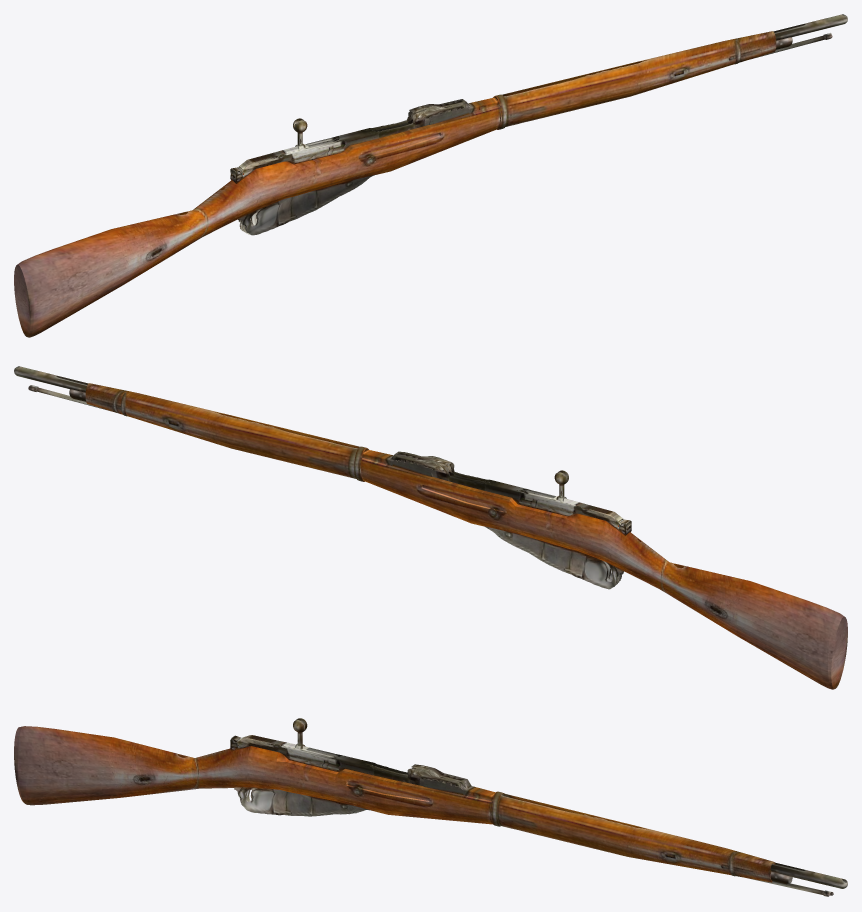
Rendered from mosin.obj.
3 views of the same model, one above another, from view 1: azimuth 30°, elevation 25°; view 2: azimuth 150°, elevation 25°; view 3: azimuth 330°, elevation 25° (orthographic).
Visible parts, largest first — view 1: 円柱, 円, 円柱.003; view 2: 円柱, 円, 円柱.003; view 3: 円柱, 円, 円柱.003, 円.002_円.003.
Part boxes in pixels (<box>): 円柱: <box>14,31,776,337</box>; 円: <box>230,99,471,235</box>; 円柱.003: <box>773,14,847,40</box>; 円柱: <box>85,383,847,689</box>; 円: <box>390,451,631,589</box>; 円柱.003: <box>14,366,88,392</box>; 円柱: <box>14,726,775,882</box>; 円: <box>230,735,471,816</box>; 円柱.003: <box>770,862,847,888</box>; 円.002_円.003: <box>423,778,463,794</box>.
Size of the model in its own units: 0.9354 by 0.1638 by 0.0321.
